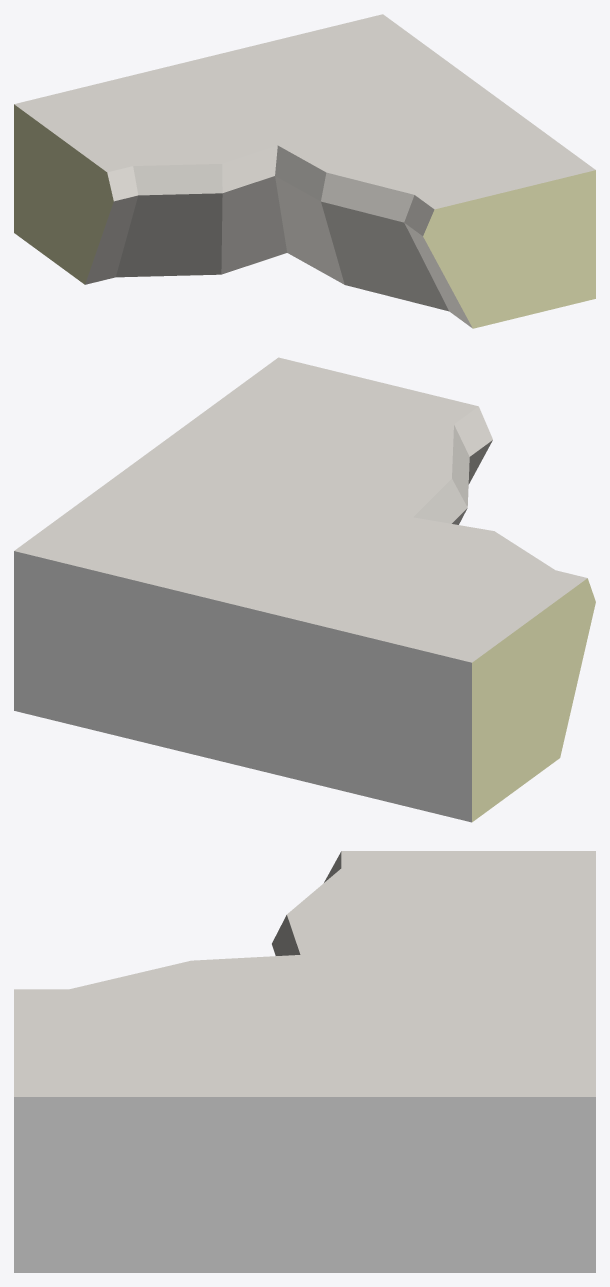
The model's file is Cracked_Curve_Inner_3x3_1_Top.fbx.
The picture shows the model from 3 angles, top to bottom: view 1: azimuth 30°, elevation 25°; view 2: azimuth 150°, elevation 25°; view 3: azimuth 270°, elevation 25°; orthographic projection. The views are drawn at different scales.
Parts seen in each view (by area): view 1: Cracked_Curve_Inner_3x3_1_Top; view 2: Cracked_Curve_Inner_3x3_1_Top; view 3: Cracked_Curve_Inner_3x3_1_Top.
Part boxes in pixels (<box>): Cracked_Curve_Inner_3x3_1_Top: <box>14,14,595,328</box>; Cracked_Curve_Inner_3x3_1_Top: <box>14,357,595,822</box>; Cracked_Curve_Inner_3x3_1_Top: <box>14,851,595,1272</box>.
Bounding box in the file's own units: 300 × 100 × 300.
